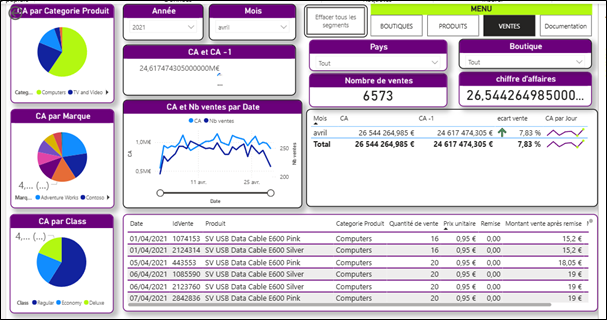

What the dashboard file says about the page in this screenshot:
{"tool":"powerbi","page":{"name":"VENTES","canvas":[1280,720],"ordinal":2},"visuals":[{"type":"pieChart","fields":{"Category":["Categorie Produits.Categorie Produit"],"Y":["Sales.CA"]},"box":[10,0,225,215],"z":0},{"type":"pieChart","fields":{"Y":["Sales.CA"],"Category":["Produits.Marque"]},"box":[10,227.5,225,215],"z":1000},{"type":"pieChart","fields":{"Y":["Sales.CA"],"Category":["Produits.Class"]},"box":[7.5,456.2,225,215],"z":2000},{"type":"slicer","title":"Année","fields":{"Values":["DateTable.Année"]},"box":[252.2,0,174.4,78.9],"z":3000},{"type":"slicer","title":"Mois","fields":{"Values":["DateTable.Mois"]},"box":[437.8,0,188.9,78.9],"z":4000},{"type":"tableEx","fields":{"Values":["DateTable.Date","Sales.IdVente","Produits.Produit","Categorie Produits.Categorie Produit","Sales.Quantité de vente","Produits.Prix unitaire","Sales.Remise","Sales.Montant vente après remise","Sales.Montant vente"]},"box":[252.2,455.6,1027.8,211.1],"z":5000},{"type":"actionButton","box":[0,0,100,40],"z":6000},{"type":"lineChart","fields":{"Category":["DateTable.Date"],"Y":["Sales.CA"],"Y2":["Sales.Nb ventes"]},"box":[252.2,207.8,387.8,235.6],"z":7000},{"type":"gauge","fields":{"Y":["Sales.CA"],"TargetValue":["Sales.CA -1"]},"box":[252.2,87.8,374.4,110],"z":8000},{"type":"tableEx","fields":{"Values":["DateTable.Mois","Sales.CA","Sales.CA -1","Sales.ecart vente","SparklineData(Sales.CA_[DateTable.Jour])"]},"box":[648.9,227.8,631.1,212.2],"z":9000},{"type":"card","title":"Nombre de ventes","fields":{"Values":["Sales.Nb ventes"]},"box":[655.6,150,298.9,73.3],"z":10000},{"type":"card","title":"chiffre d''affaires","fields":{"Values":["Sales.CA"]},"box":[980,146.7,287.8,75.6],"z":11000},{"type":"slicer","title":"Pays","fields":{"Values":["Geographie.Pays"]},"box":[655.6,77.8,298.9,67.8],"z":12000},{"type":"slicer","title":"Boutique","fields":{"Values":["Boutiques.Boutique"]},"box":[980,76.7,287.8,64.4],"z":13000},{"type":"actionButton","box":[644.4,1.1,137.8,71.1],"z":14000},{"type":"pageNavigator","title":"MENU","box":[788.9,0,478.9,71.1],"z":15000}]}

Visuals, with their boxes on the page's 1280x720 design canvas (x1, y1, x2, y2). These are canvas units, not pixel positions in the 607x320 screenshot, which may show the page scaled, cropped or inside an application window:
pieChart - Categorie Produits.Categorie Produit x Sales.CA: l=10, t=0, r=235, b=215
pieChart - Sales.CA x Produits.Marque: l=10, t=228, r=235, b=442
pieChart - Sales.CA x Produits.Class: l=8, t=456, r=232, b=671
"Année" slicer: l=252, t=0, r=427, b=79
"Mois" slicer: l=438, t=0, r=627, b=79
tableEx - DateTable.Date x Sales.IdVente: l=252, t=456, r=1280, b=667
actionButton: l=0, t=0, r=100, b=40
lineChart - DateTable.Date x Sales.CA: l=252, t=208, r=640, b=443
gauge - Sales.CA x Sales.CA -1: l=252, t=88, r=627, b=198
tableEx - DateTable.Mois x Sales.CA: l=649, t=228, r=1280, b=440
"Nombre de ventes" card: l=656, t=150, r=954, b=223
"chiffre d''affaires" card: l=980, t=147, r=1268, b=222
"Pays" slicer: l=656, t=78, r=954, b=146
"Boutique" slicer: l=980, t=77, r=1268, b=141
actionButton: l=644, t=1, r=782, b=72
"MENU" pageNavigator: l=789, t=0, r=1268, b=71
